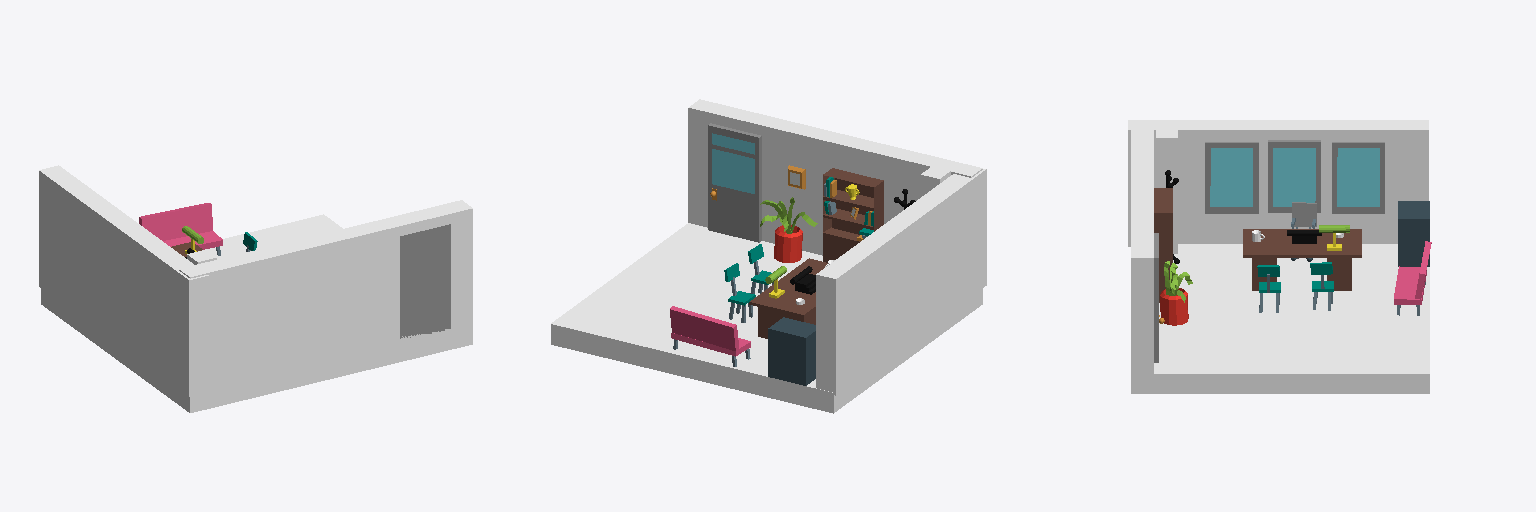
The picture shows the model from 3 angles: view 1: azimuth 30°, elevation 25°; view 2: azimuth 150°, elevation 25°; view 3: azimuth 270°, elevation 25°; orthographic projection.
Parts seen in each view (by area): view 1: group[number redacted], group[number redacted], group[number redacted], group[number redacted], group[number redacted]; view 2: group[number redacted], group[number redacted], group[number redacted], group[number redacted], group[number redacted], group[number redacted], group[number redacted], group[number redacted], group[number redacted], group[number redacted]; view 3: group[number redacted], group[number redacted], group[number redacted], group[number redacted], group[number redacted], group[number redacted], group[number redacted], group[number redacted], group[number redacted], group[number redacted], group[number redacted], group[number redacted] (+3 smaller).
Boxes of the visible parts, x1=… form: group[number redacted]: x1=179, y1=200, x2=472, y2=389; group[number redacted]: x1=39, y1=165, x2=208, y2=396; group[number redacted]: x1=41, y1=214, x2=472, y2=412; group[number redacted]: x1=400, y1=224, x2=450, y2=338; group[number redacted]: x1=139, y1=203, x2=212, y2=240; group[number redacted]: x1=551, y1=223, x2=982, y2=413; group[number redacted]: x1=816, y1=169, x2=986, y2=395; group[number redacted]: x1=688, y1=99, x2=982, y2=255; group[number redacted]: x1=708, y1=123, x2=761, y2=242; group[number redacted]: x1=823, y1=168, x2=883, y2=262; group[number redacted]: x1=768, y1=317, x2=815, y2=385; group[number redacted]: x1=670, y1=306, x2=738, y2=350; group[number redacted]: x1=749, y1=258, x2=827, y2=317; group[number redacted]: x1=774, y1=225, x2=802, y2=262; group[number redacted]: x1=758, y1=307, x2=815, y2=338; group[number redacted]: x1=1131, y1=244, x2=1429, y2=393; group[number redacted]: x1=1128, y1=120, x2=1428, y2=246; group[number redacted]: x1=1131, y1=120, x2=1153, y2=375; group[number redacted]: x1=1205, y1=142, x2=1258, y2=213; group[number redacted]: x1=1332, y1=142, x2=1384, y2=213; group[number redacted]: x1=1268, y1=140, x2=1320, y2=212; group[number redacted]: x1=1243, y1=229, x2=1361, y2=257; group[number redacted]: x1=1398, y1=201, x2=1429, y2=266; group[number redacted]: x1=1156, y1=129, x2=1177, y2=253; group[number redacted]: x1=1154, y1=188, x2=1172, y2=302; group[number redacted]: x1=1394, y1=266, x2=1426, y2=304; group[number redacted]: x1=1160, y1=288, x2=1188, y2=325.
Size of the model in its own units: 1.05 by 0.4837 by 0.9686.